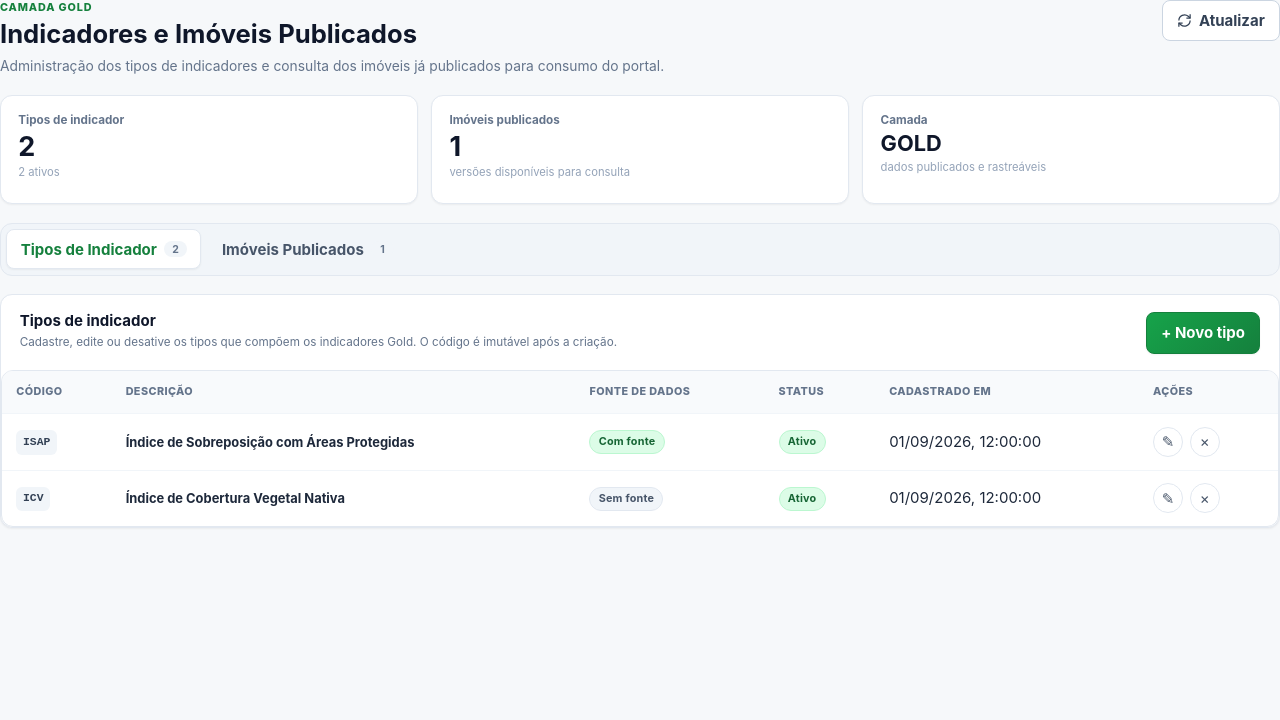
Test: GoldView › cadastra um tipo, recarrega a lista e fecha o modal
Click the button with class "botao-principal--compacto" at (1203, 333), box [1146,312,1260,354]
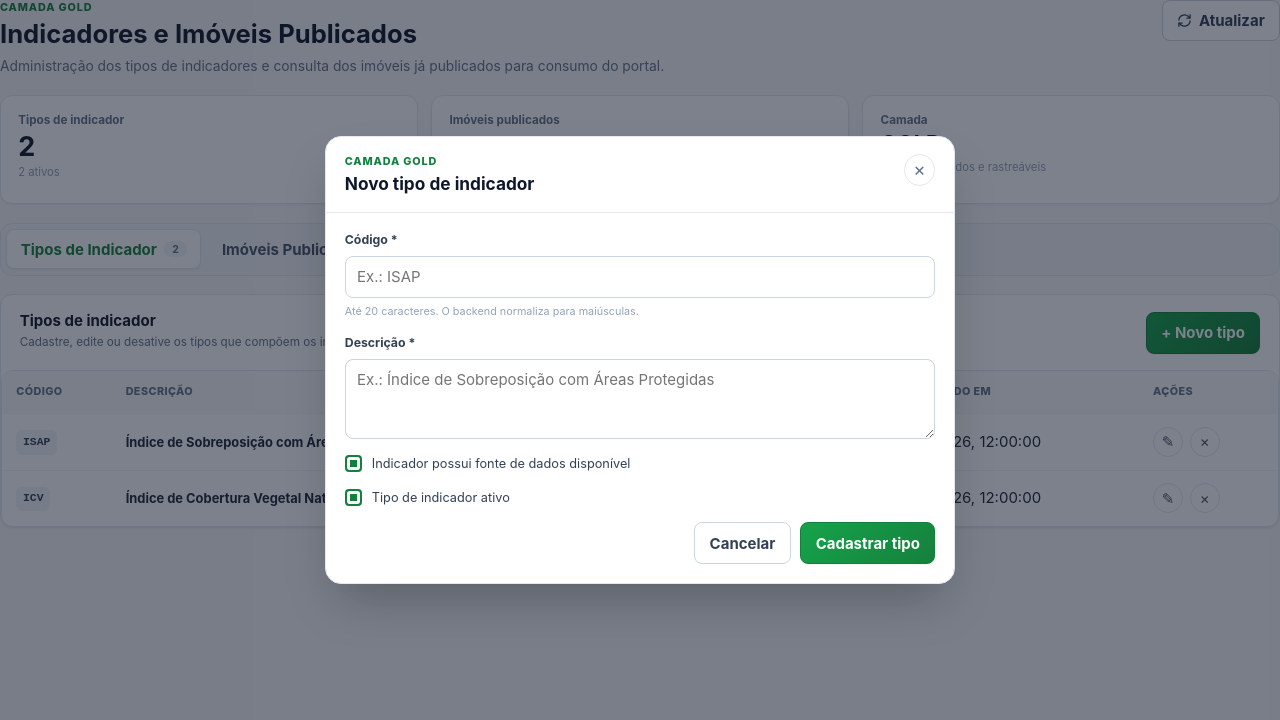
Type "novo" into the field with id "input-codigo" at (640, 277), box [345,256,935,298]
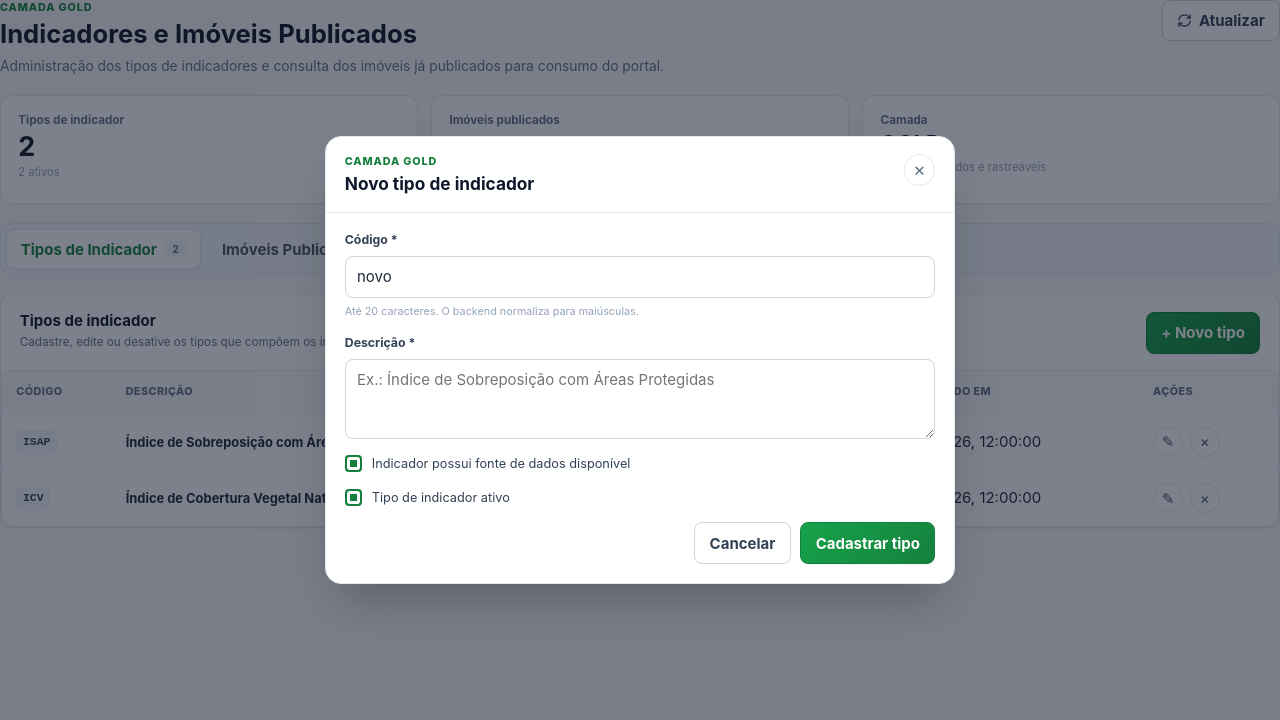
Type "Novo indicador" into the text box with id "input-descricao" at (640, 399), box [345,359,935,439]
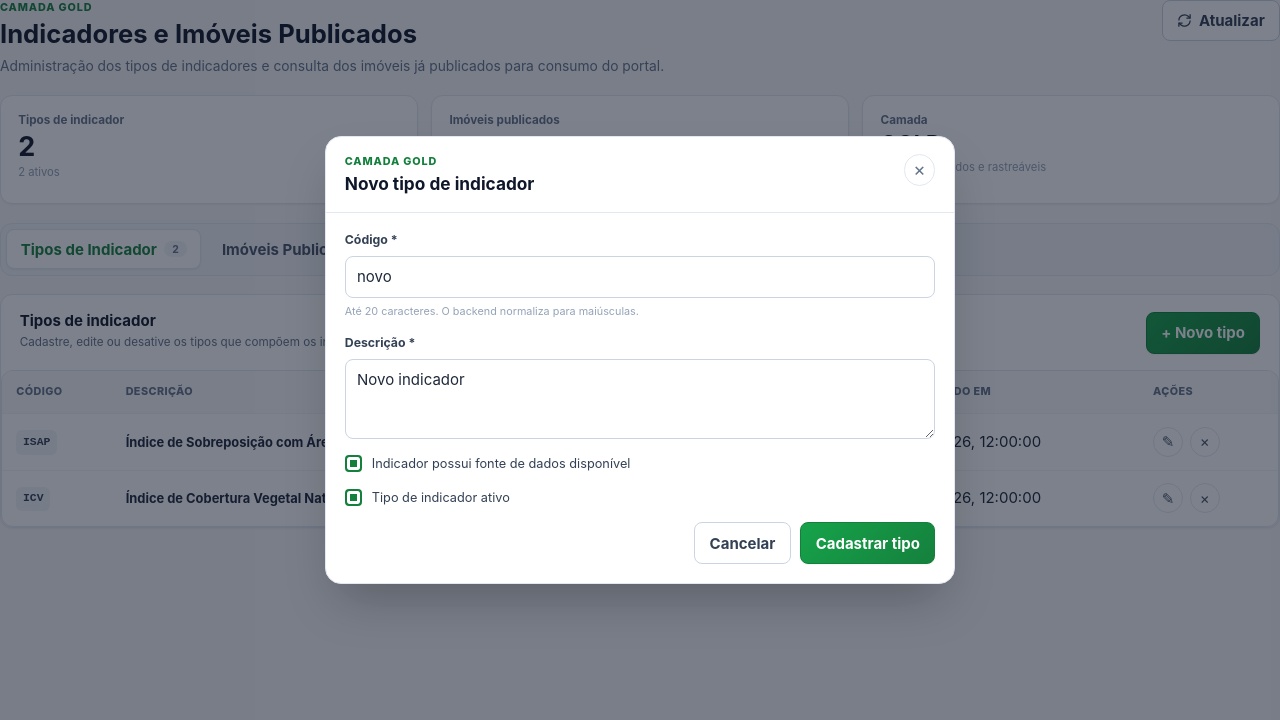
Submit the form with id "form-tipo-indicador", box [326,213,954,583]
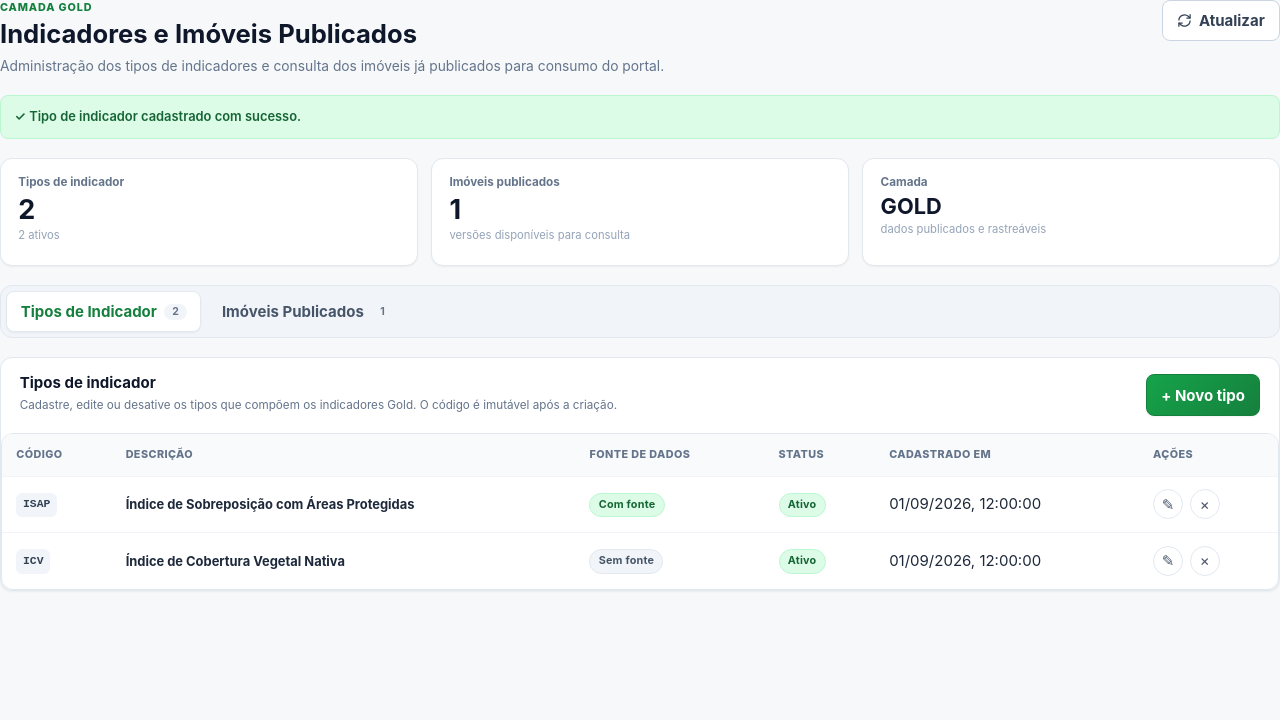
Expected: the text "Tipo de indicador cadastrado com sucesso." is shown, [14,109,301,124]
